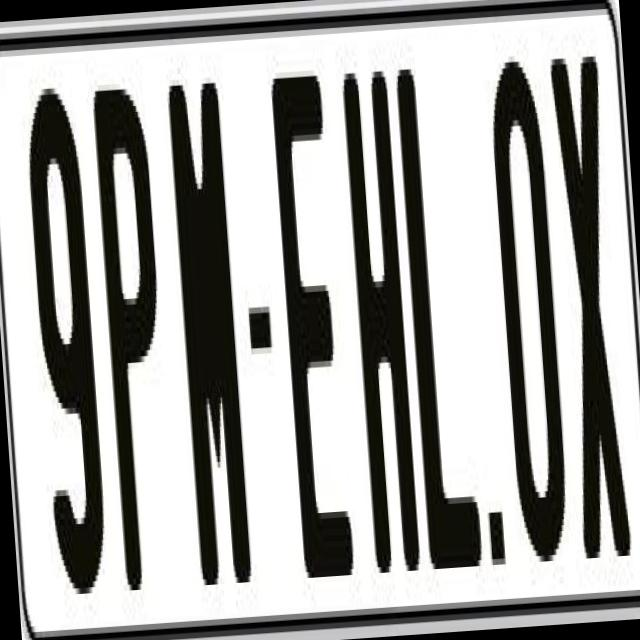0: (482, 49, 570, 556)
9: (18, 68, 114, 608)
E: (268, 74, 360, 596)
H: (336, 59, 416, 579)
L: (390, 60, 484, 593)
M: (165, 82, 255, 614)
P: (90, 86, 186, 602)
X: (548, 50, 634, 552)
